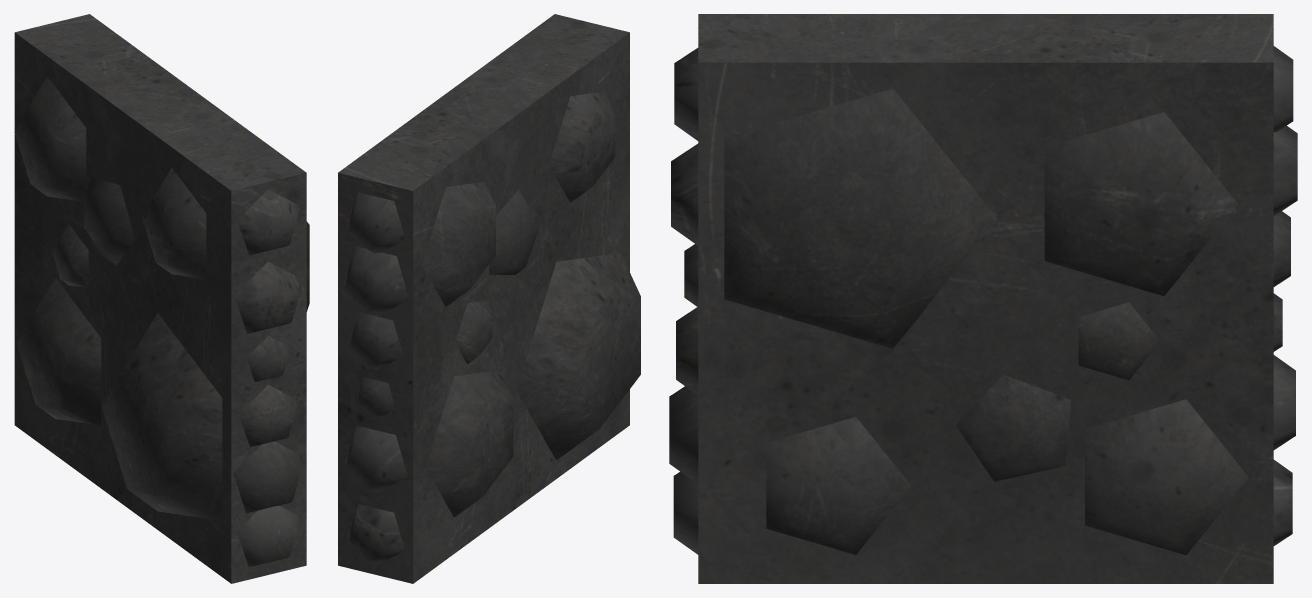
File: mod_ogga_wall2.fbx
The picture shows the model from 3 angles, left to right: view 1: azimuth 30°, elevation 25°; view 2: azimuth 150°, elevation 25°; view 3: azimuth 270°, elevation 25°; orthographic projection. The views are drawn at different scales.
Visible parts, largest first — view 1: wall2; view 2: wall2; view 3: wall2.
Boxes of the visible parts, x1=… form: wall2: x1=14, y1=14, x2=309, y2=583; wall2: x1=338, y1=14, x2=640, y2=583; wall2: x1=669, y1=14, x2=1297, y2=583.
Bounding box in the file's own units: 3.76 × 10 × 10.92.
